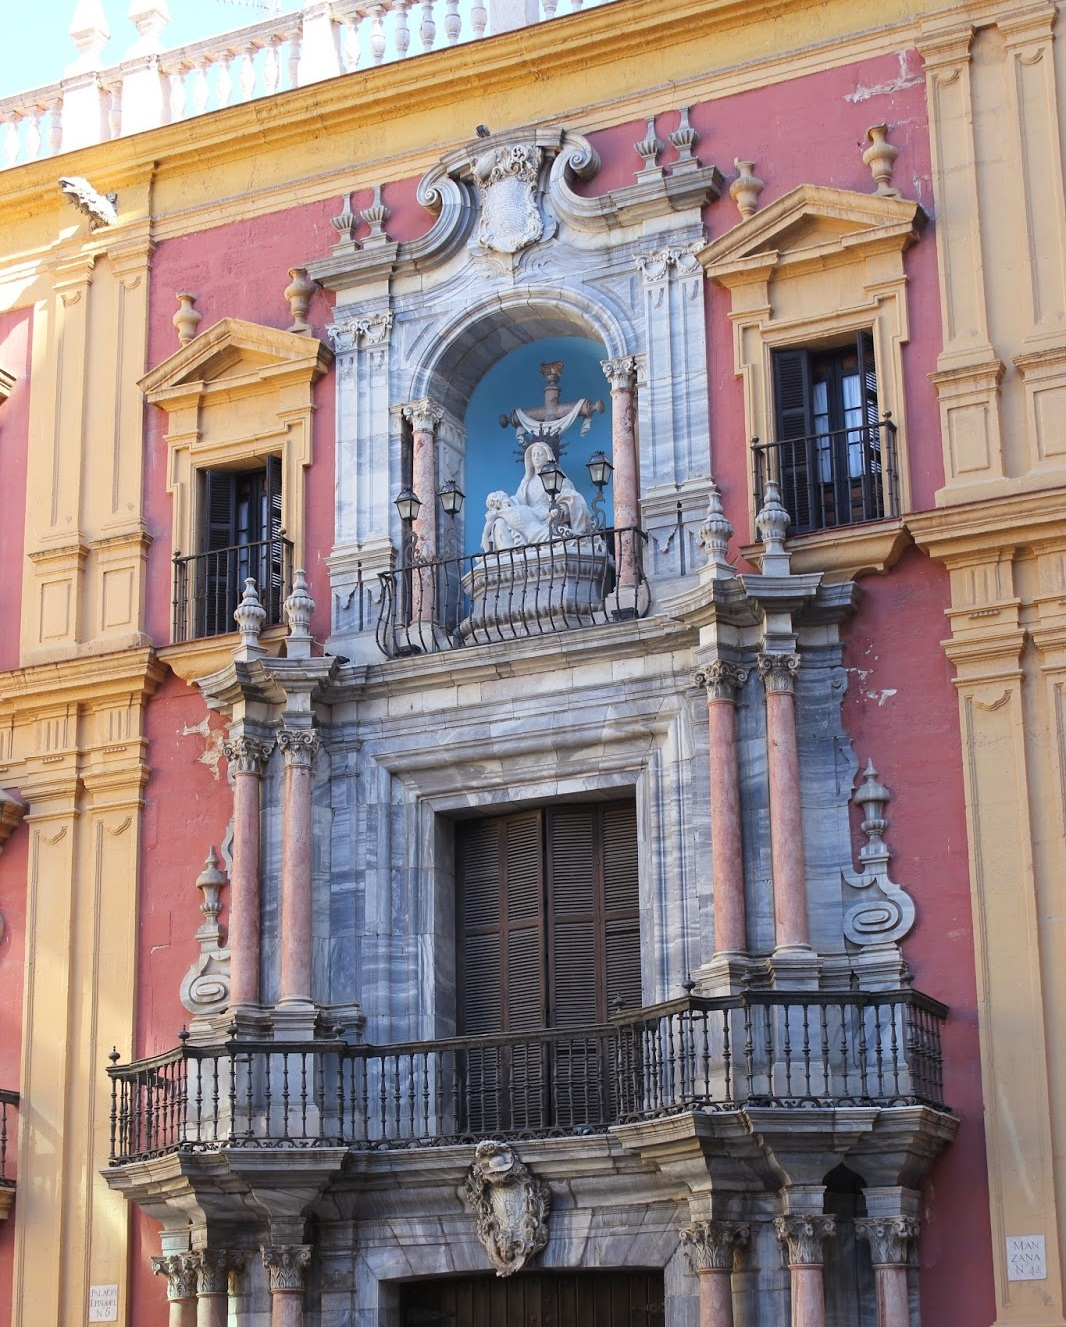arco-medio-punto: (422, 292, 622, 439)
fronton: (693, 185, 921, 275), (126, 315, 325, 404)
vano-adintelado: (372, 712, 686, 1152), (759, 305, 893, 543), (186, 430, 297, 644)
